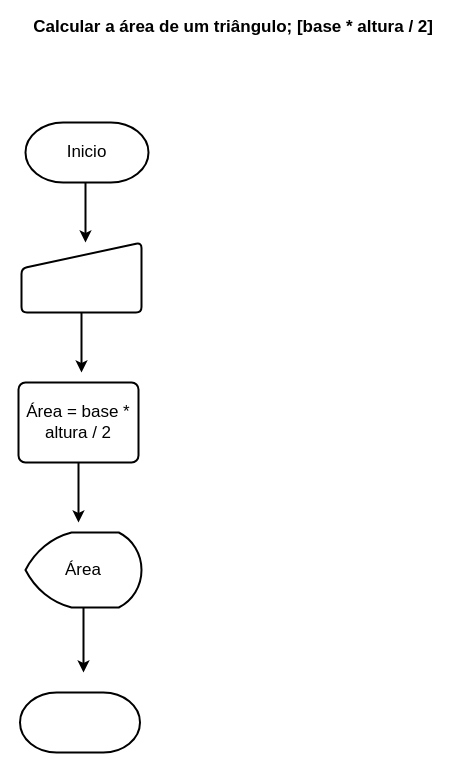
Image size: 462x771. Some labels were removed from this diagram. Here are the shapes that lost their labels. From the top down, the centre of each, then its label:
At (x=81, y=277): "Base Altura".
At (x=79, y=722): "Fim".
